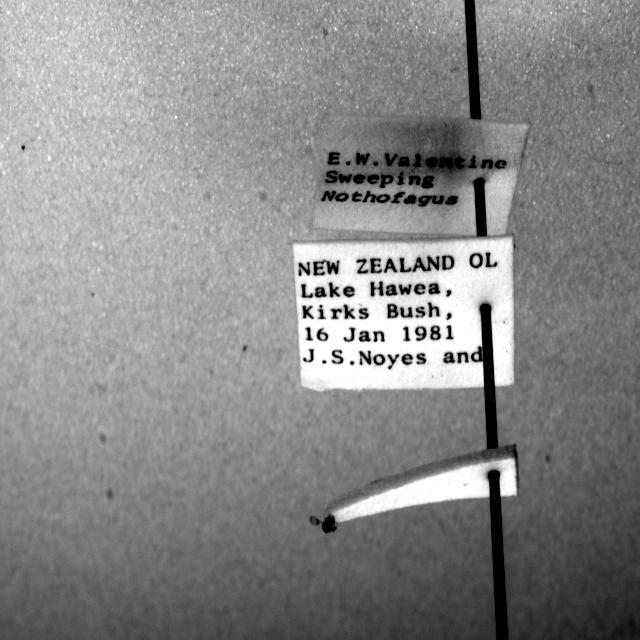typed_label: (294, 236, 514, 390), (312, 116, 529, 236)
